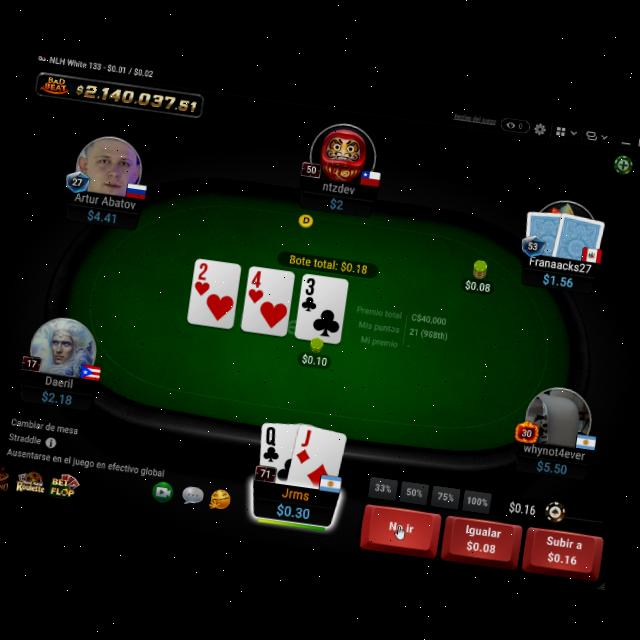2h: (191, 260, 218, 300)
3c: (299, 276, 321, 318)
4h: (246, 268, 268, 306)
Jd: (294, 428, 316, 468)
Qc: (260, 424, 284, 466)
bet_text: (301, 350, 330, 370), (463, 276, 492, 294)
dealer: (296, 212, 316, 232)
hero_active: (356, 500, 608, 584)
pot_text: (288, 254, 369, 278)
stack_text: (275, 499, 313, 524), (533, 456, 570, 479), (540, 271, 576, 293), (39, 388, 74, 408), (85, 208, 120, 225), (327, 196, 346, 212)
